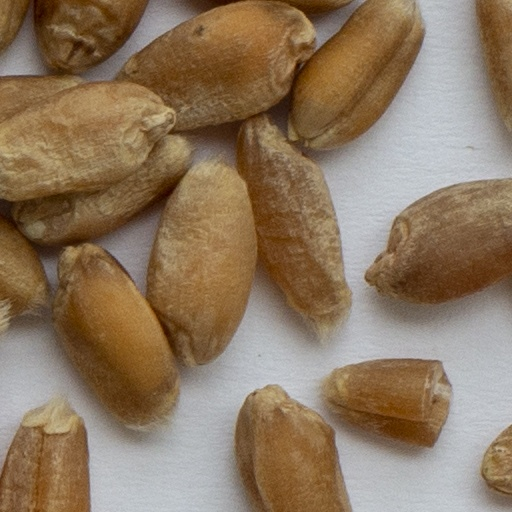Wheat-grain-damaged-poly: (324, 356, 453, 449)
